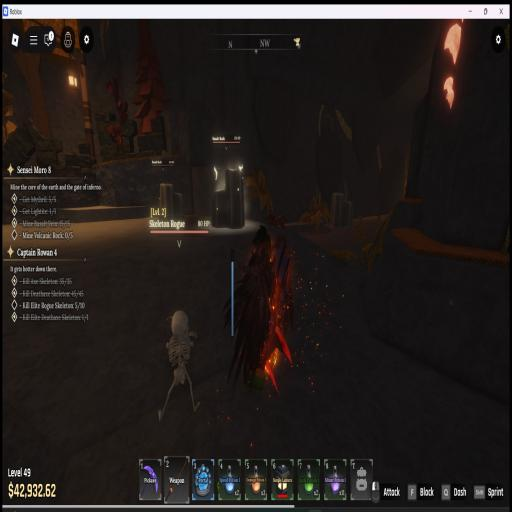player: (224, 226, 293, 385)
rock: (212, 170, 244, 228), (159, 184, 184, 219), (330, 192, 353, 228)
